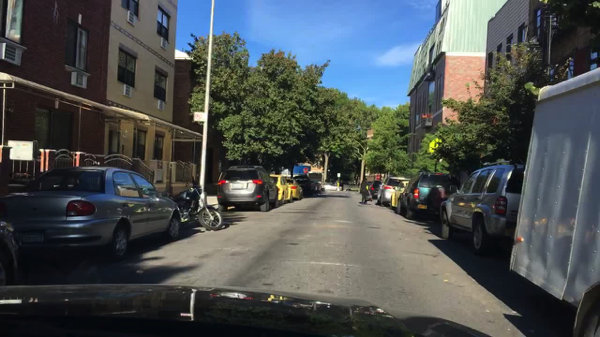car: (0, 166, 181, 262), (439, 164, 524, 255), (216, 166, 278, 212), (396, 173, 456, 219), (375, 178, 409, 206), (270, 174, 294, 205), (389, 180, 410, 211), (283, 176, 304, 202), (294, 176, 316, 196), (367, 181, 382, 200), (322, 183, 343, 191), (312, 181, 323, 194)
motor: (165, 176, 223, 231)
person: (359, 176, 369, 205), (339, 180, 345, 191)
traffic sign: (427, 138, 444, 156), (193, 112, 205, 123), (337, 173, 340, 178)
truck: (508, 70, 599, 337), (0, 222, 22, 287)
